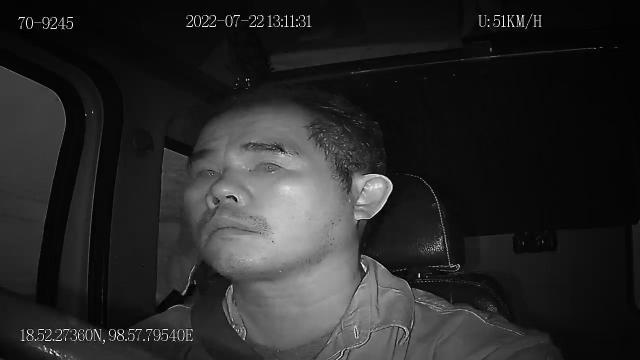SafeDriving: (243, 150, 293, 180), (186, 152, 226, 188)
Seatbelt: (190, 292, 268, 360)
